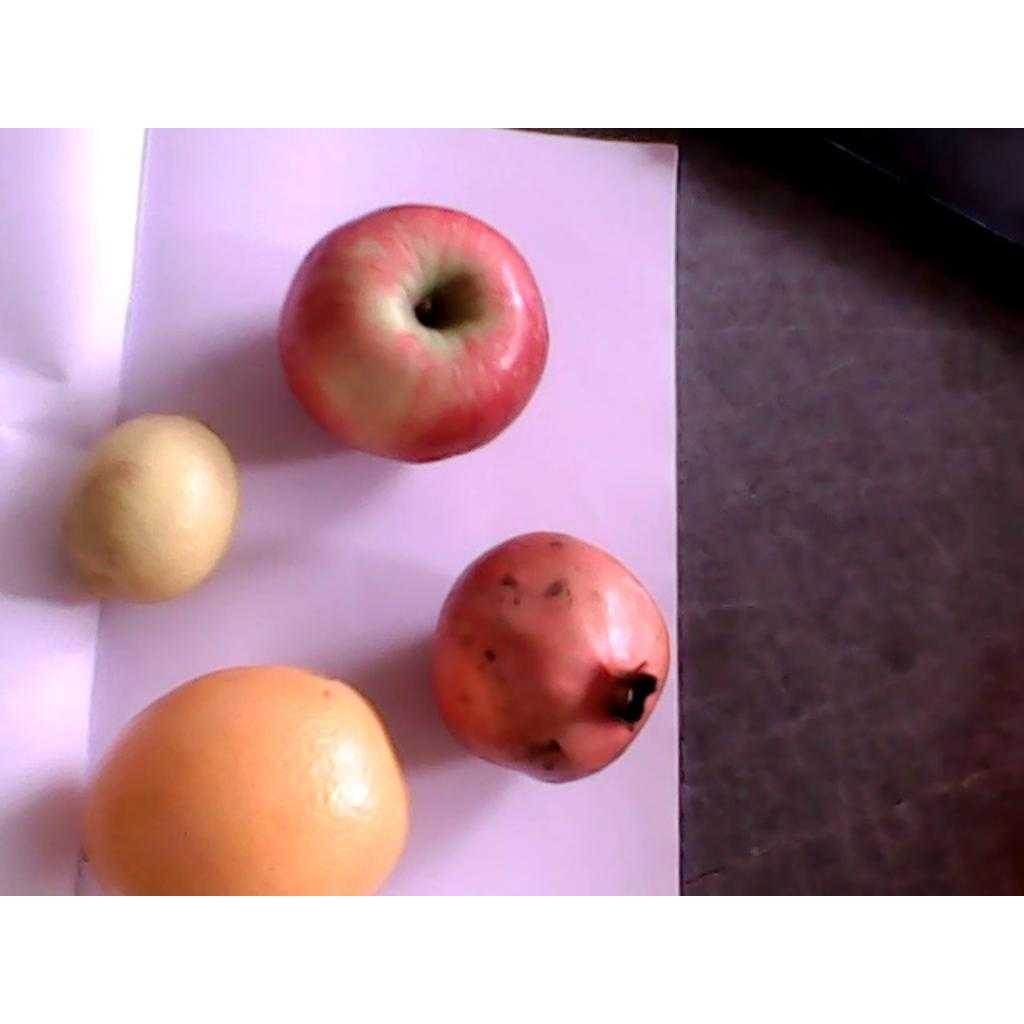apple: (278, 206, 550, 464)
lemon: (59, 408, 241, 607)
orange: (76, 665, 411, 894)
pomegranate: (426, 531, 672, 786)
